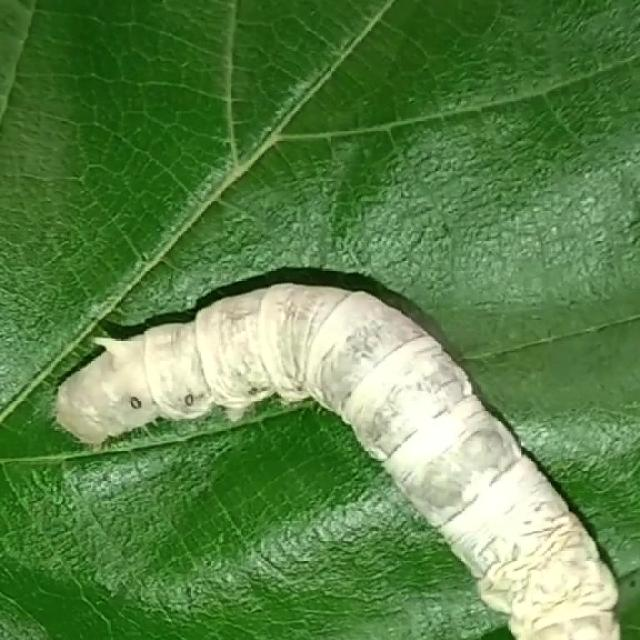Grasserie: (44, 265, 624, 640)
